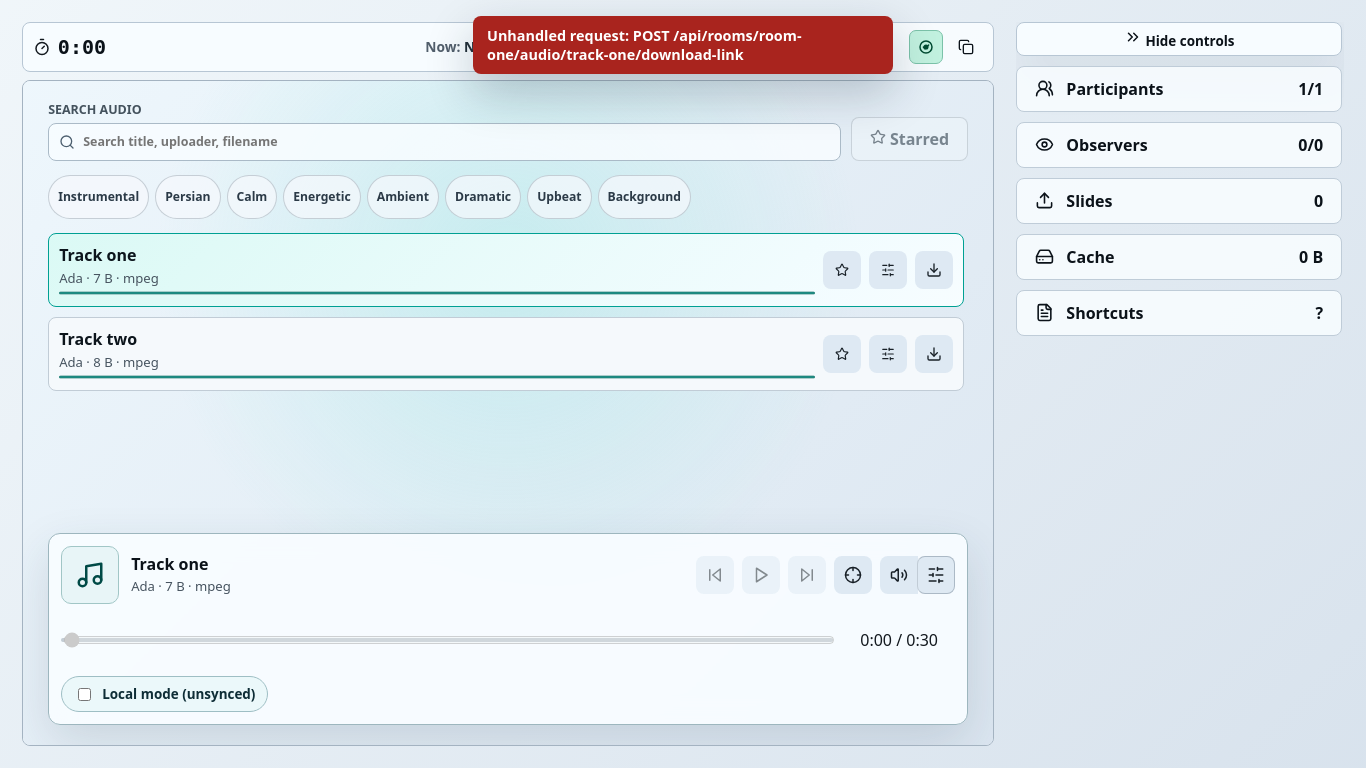
Scenario: App landing polish › uses keyboard media keys for local audio playback without shared commands
This screenshot has width=1366, height=768.
Click the checkbox labelled "Local mode (unsynced)" at (85, 694), box x1=78 y1=688 x2=91 y2=701
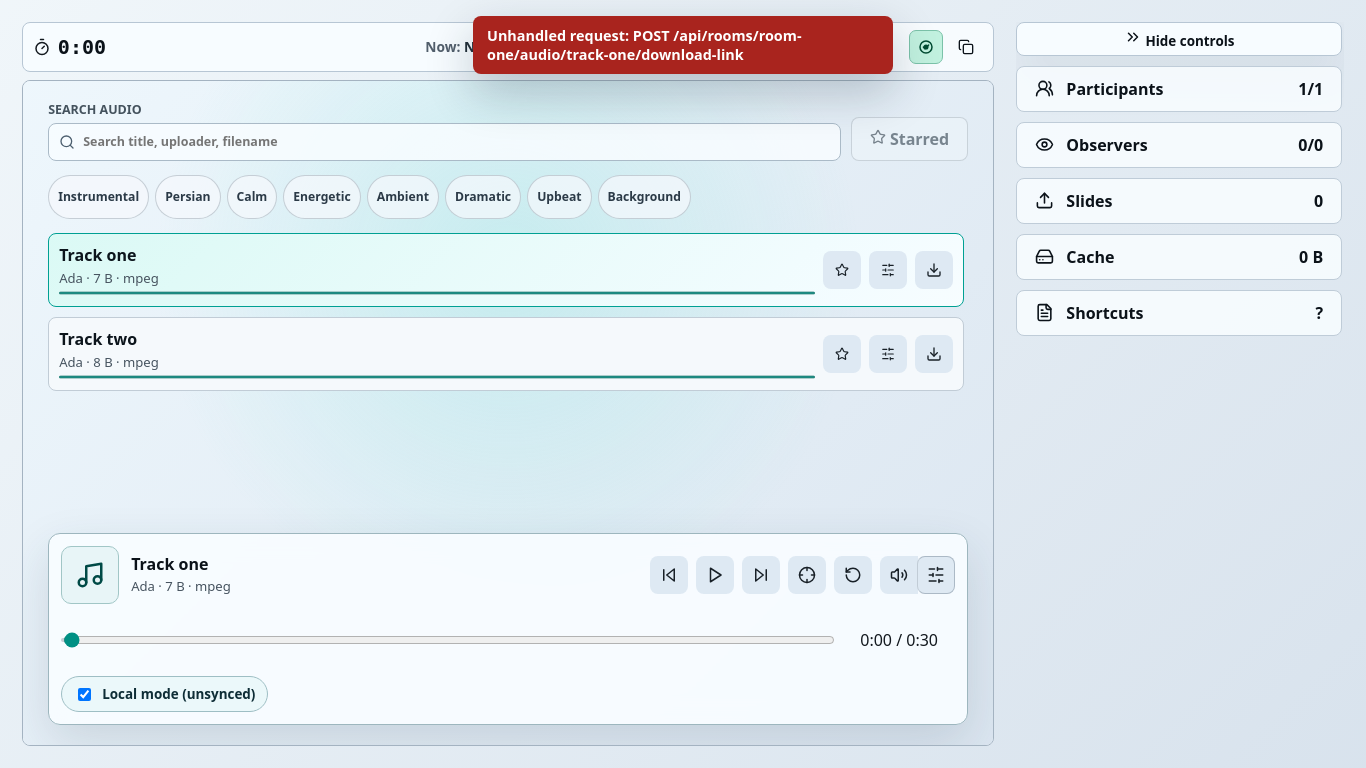
Expected: the 2nd text "Track one" is shown, x1=131 y1=553 x2=208 y2=575
Press MediaPlayPause
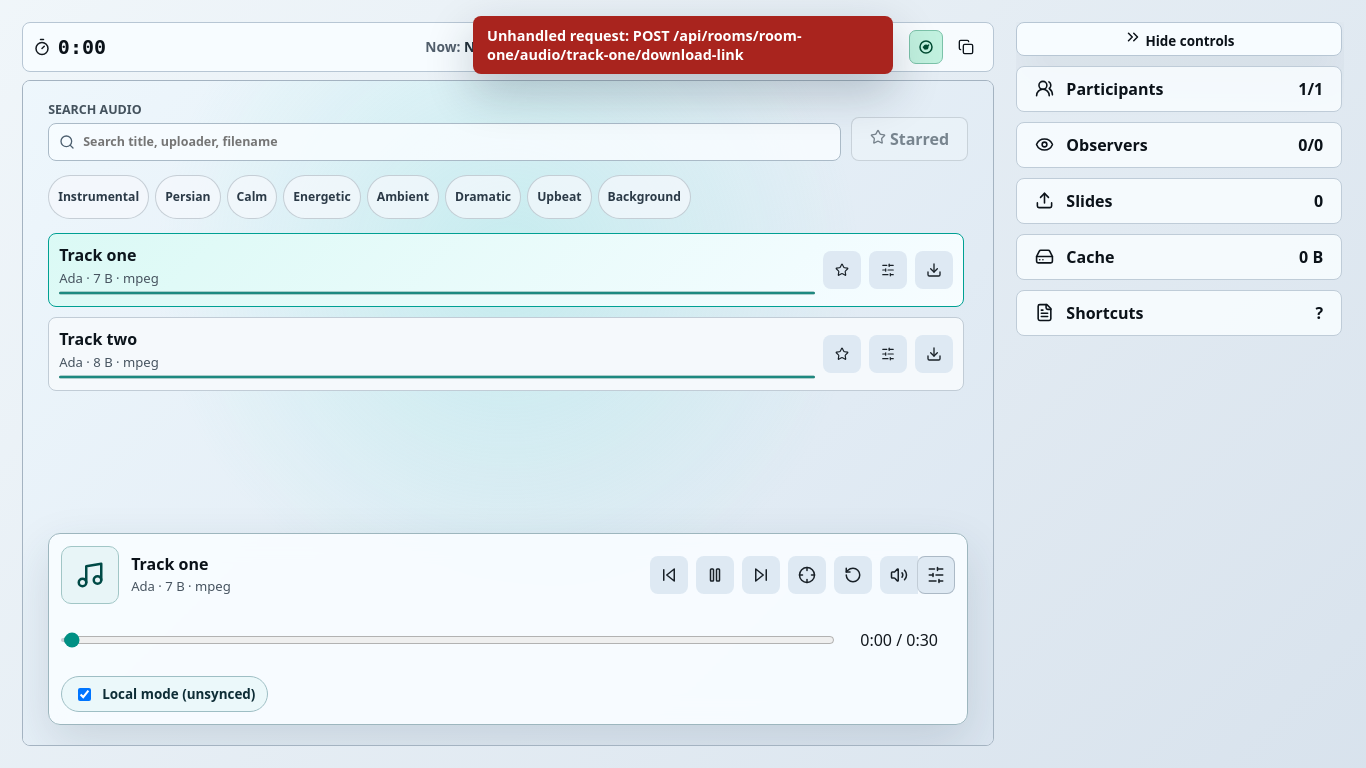
Press MediaTrackNext
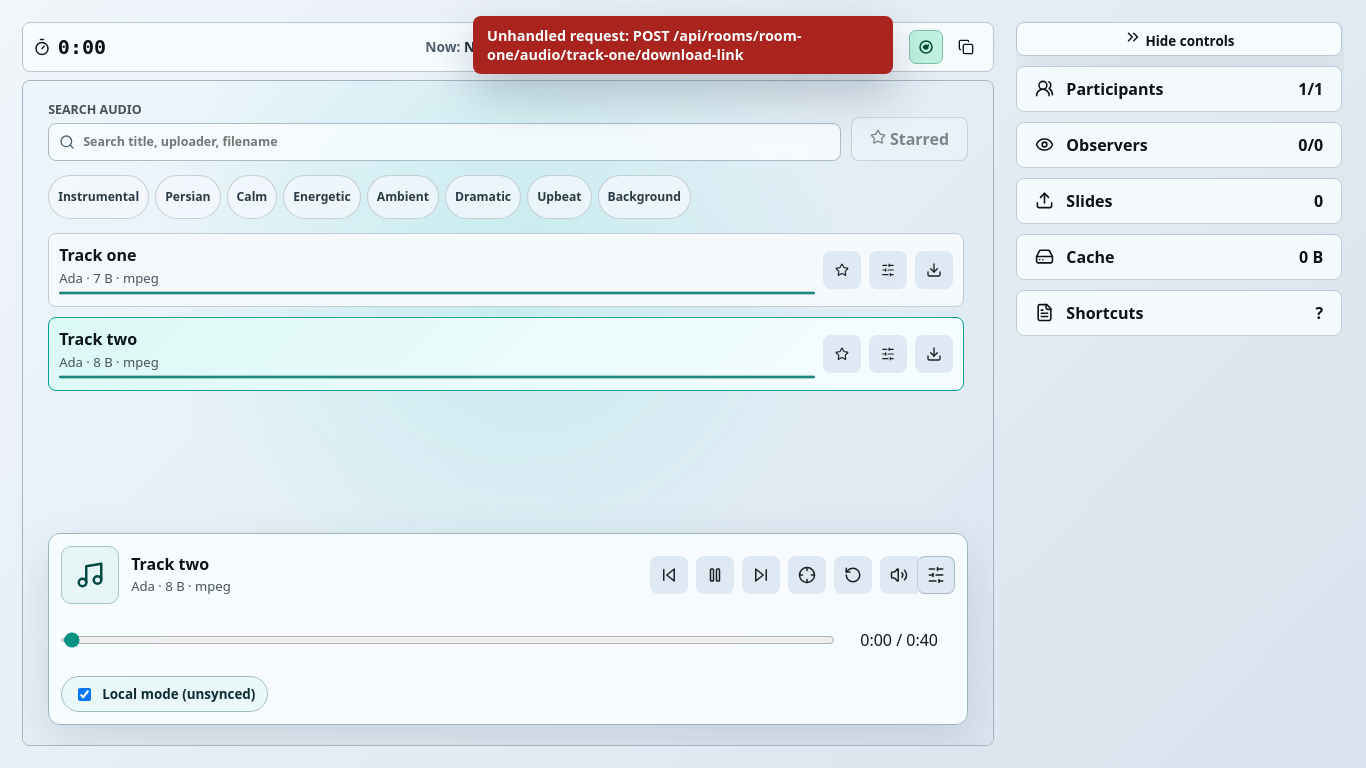
Expected: the 2nd text "Track two" is shown, x1=131 y1=553 x2=209 y2=575
